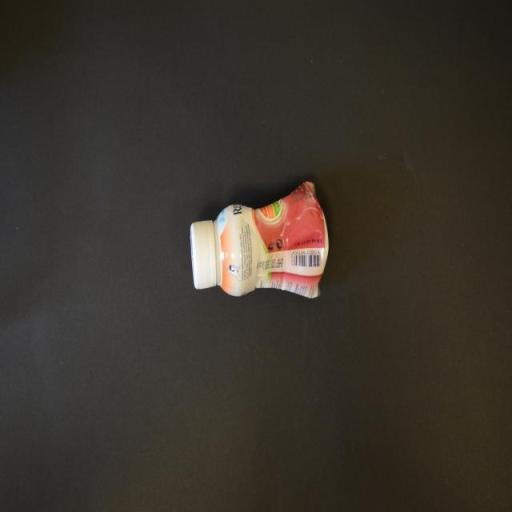plastic: (190, 176, 329, 298)
